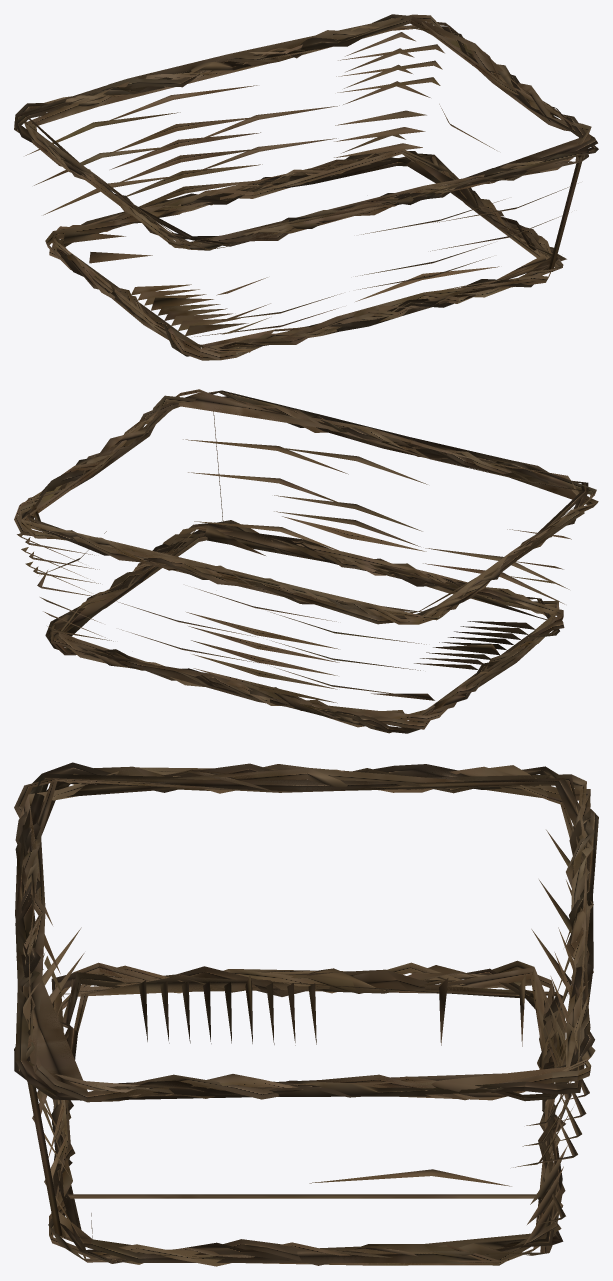
Rendered from wicker_basket_01.glb.
The picture shows the model from 3 angles, top to bottom: view 1: azimuth 30°, elevation 25°; view 2: azimuth 150°, elevation 25°; view 3: azimuth 270°, elevation 25°; orthographic projection. The views are drawn at different scales.
Visible parts, largest first — view 1: wicker_basket_01, wicker_basket_01_lo; view 2: wicker_basket_01, wicker_basket_01_lo; view 3: wicker_basket_01, wicker_basket_01_lo.
Boxes of the visible parts, <box> form: wicker_basket_01: <box>14,14,598,360</box>; wicker_basket_01_lo: <box>15,14,591,356</box>; wicker_basket_01: <box>14,389,598,733</box>; wicker_basket_01_lo: <box>20,390,596,733</box>; wicker_basket_01: <box>14,762,595,1266</box>; wicker_basket_01_lo: <box>15,767,598,1265</box>.
Size of the model in its own units: 0.383 by 0.1172 by 0.2929.
Materials: 1 (1 with a texture image).
